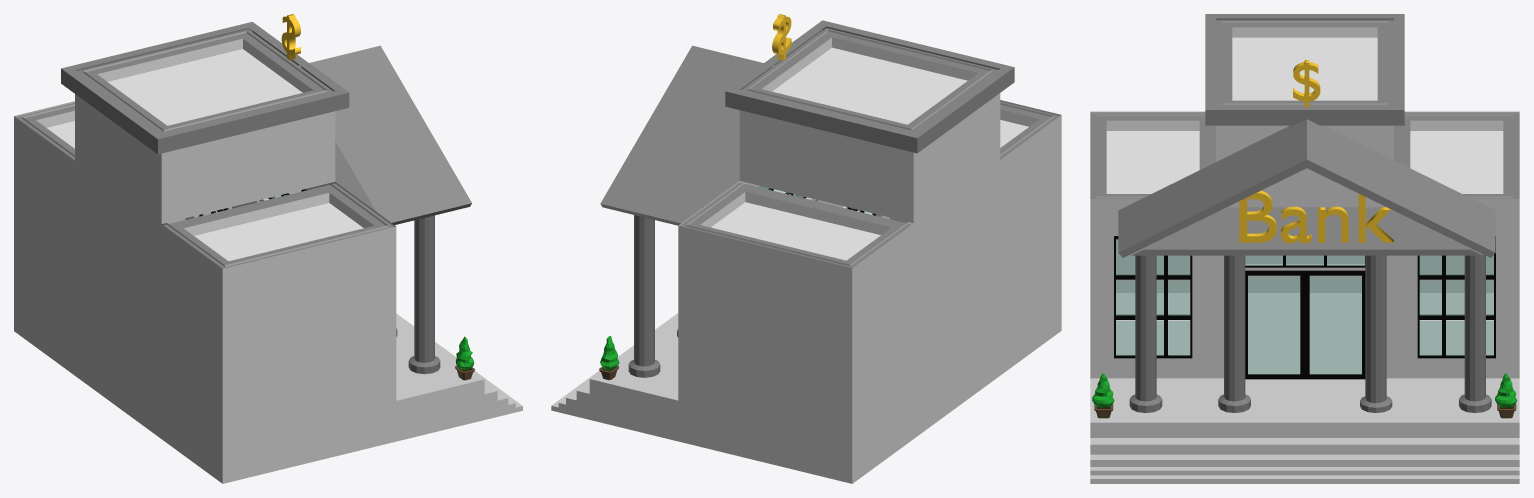
File: bank.glb
The picture shows the model from 3 angles, left to right: view 1: azimuth 30°, elevation 25°; view 2: azimuth 150°, elevation 25°; view 3: azimuth 270°, elevation 25°; orthographic projection. The views are drawn at different scales.
Parts seen in each view (by area): view 1: struttura, TETTU, TETTOIA, GRADINI, colonna.002, Cube, Text.001; view 2: struttura, TETTU, TETTOIA, GRADINI, colonna.003, Cube, Text.001; view 3: struttura, GRADINI, TETTU, TETTOIA, VETRI FINESTRE, VETRI PORTA, Cube, SERRAMENTI, colonna.002, colonna.003, colonna, colonna.001 (+4 smaller).
Boxes of the visible parts, <box> form: struttura: <box>14,22,396,483</box>; TETTU: <box>16,29,394,268</box>; TETTOIA: <box>299,45,471,224</box>; GRADINI: <box>396,313,522,441</box>; colonna.002: <box>408,215,440,374</box>; Cube: <box>335,142,376,211</box>; Text.001: <box>281,14,300,60</box>; struttura: <box>678,20,1061,483</box>; TETTU: <box>680,28,1059,267</box>; TETTOIA: <box>600,45,774,225</box>; GRADINI: <box>551,313,678,441</box>; colonna.003: <box>628,215,660,377</box>; Cube: <box>696,138,739,212</box>; Text.001: <box>772,14,791,60</box>; struttura: <box>1090,14,1519,378</box>; GRADINI: <box>1090,378,1519,483</box>; TETTU: <box>1090,20,1519,198</box>; TETTOIA: <box>1118,119,1495,257</box>; VETRI FINESTRE: <box>1116,240,1493,355</box>; VETRI PORTA: <box>1248,276,1361,374</box>; Cube: <box>1131,207,1482,255</box>; SERRAMENTI: <box>1114,236,1495,379</box>; colonna.002: <box>1129,255,1162,412</box>; colonna.003: <box>1459,254,1491,412</box>; colonna: <box>1218,255,1250,412</box>; colonna.001: <box>1360,255,1392,412</box>.
Bounding box in the file's own units: 10.72 × 11.55 × 12.53.
Materials: 5 (1 with a texture image).
